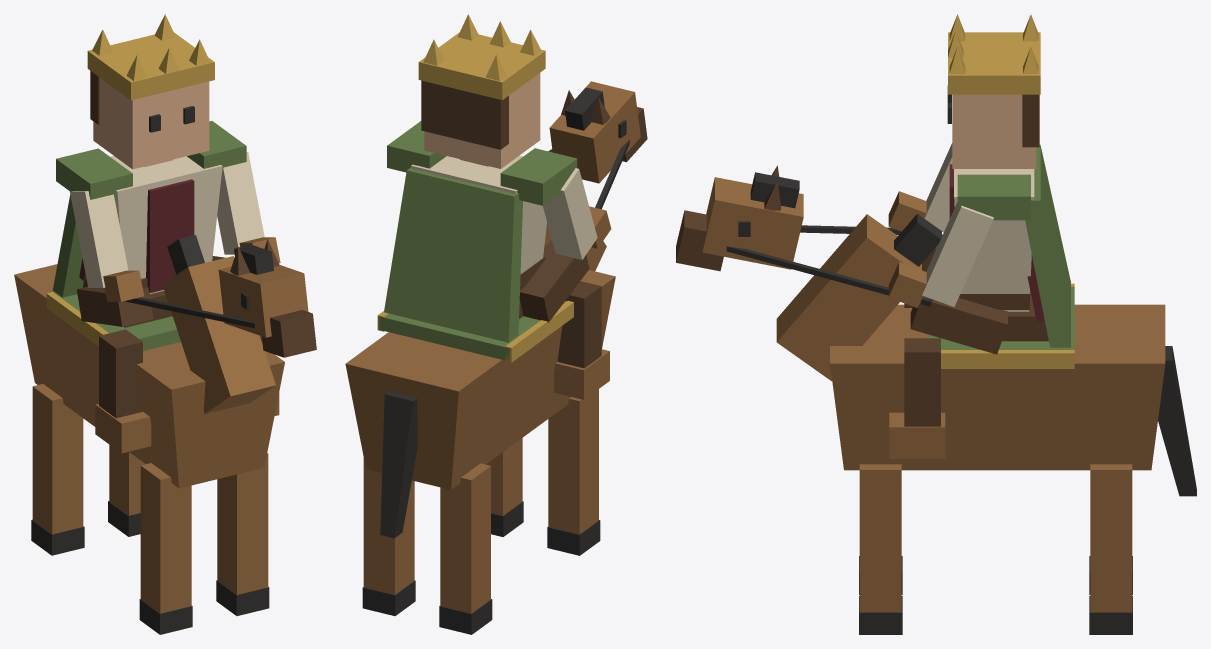
File: monarch_horse.glb
3 views of the same model, side by side, from view 1: azimuth 30°, elevation 25°; view 2: azimuth 150°, elevation 25°; view 3: azimuth 270°, elevation 25° (orthographic). The views are drawn at different scales.
Parts seen in each view (by area): view 1: MonarchHorse; view 2: MonarchHorse; view 3: MonarchHorse.
Part boxes in pixels (<box>): MonarchHorse: <box>14,14,316,634</box>; MonarchHorse: <box>345,14,647,634</box>; MonarchHorse: <box>676,14,1196,634</box>.
Size of the model in its own units: 0.6161 by 1.95 by 1.6.
